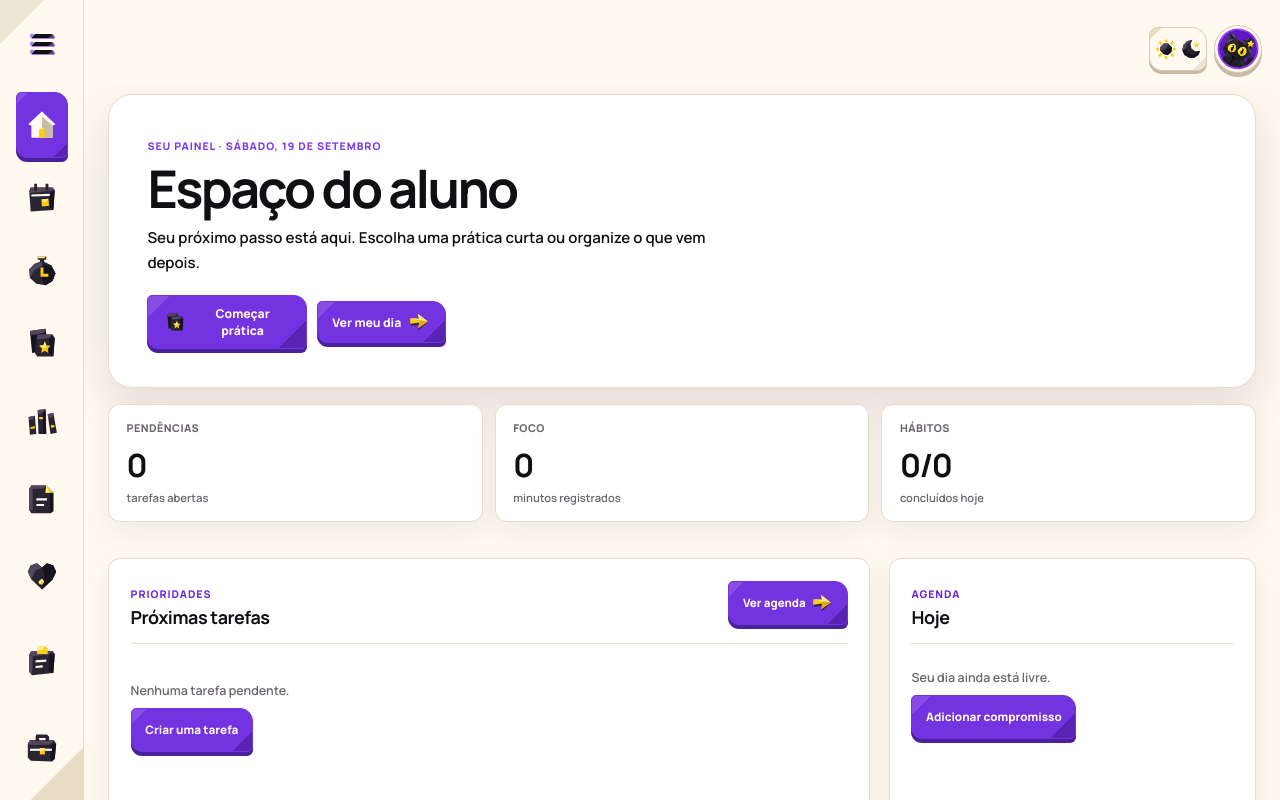
Test case: App › mostra a rosa que cresce com o temporizador de foco
What coordinates should you click on to do the following:
click the button named "Foco"
I would click on:
 (42, 271)
Its box is x1=16 y1=238 x2=68 y2=304.
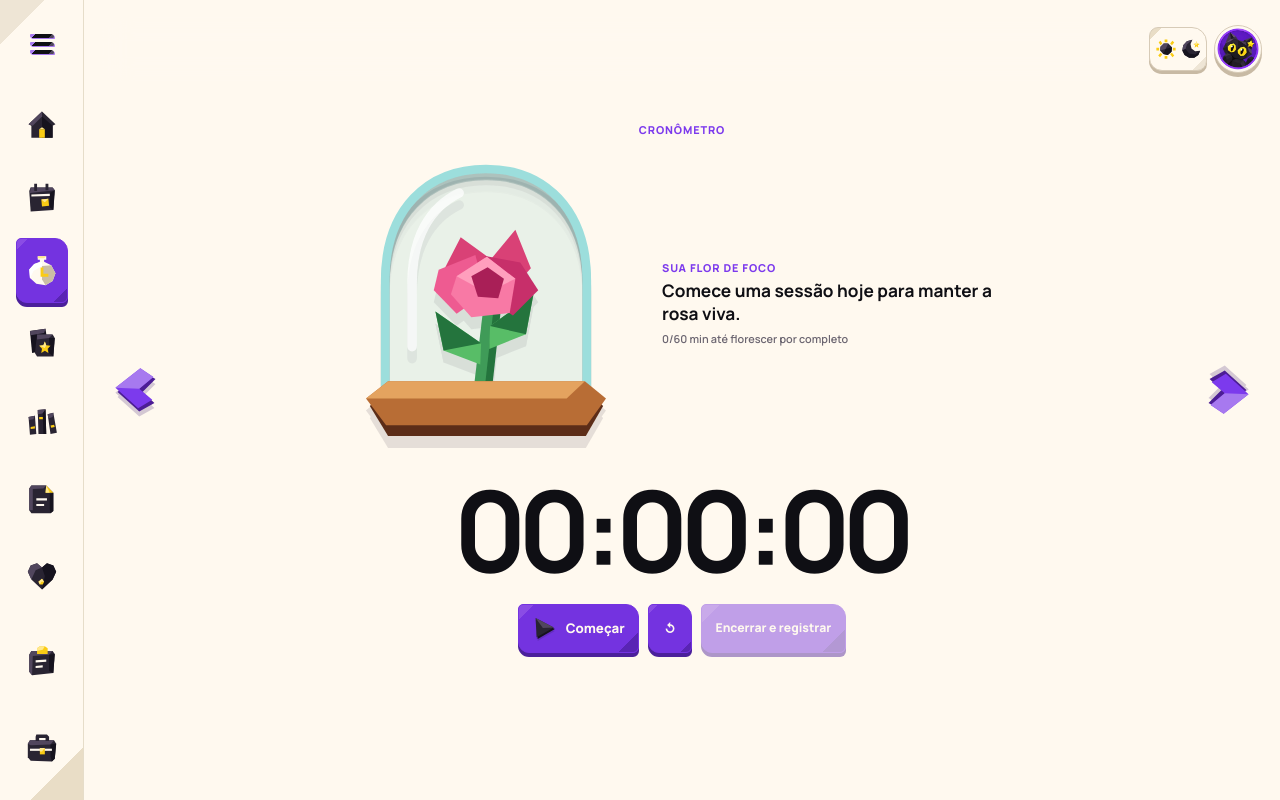
Expected: the picture named "rosa de foco crescendo" is shown, x1=342 y1=145 x2=630 y2=461
Expected: the text "Comece uma sessão hoje para manter a rosa viva." is shown, x1=662 y1=280 x2=1022 y2=325
Expected: the text "0/60 min até florescer por completo" is shown, x1=662 y1=331 x2=848 y2=346
What coordinates should you click on to do the following:
click the button named "Próximo modo"
I would click on:
 (1228, 391)
Its box is x1=1200 y1=363 x2=1256 y2=419.
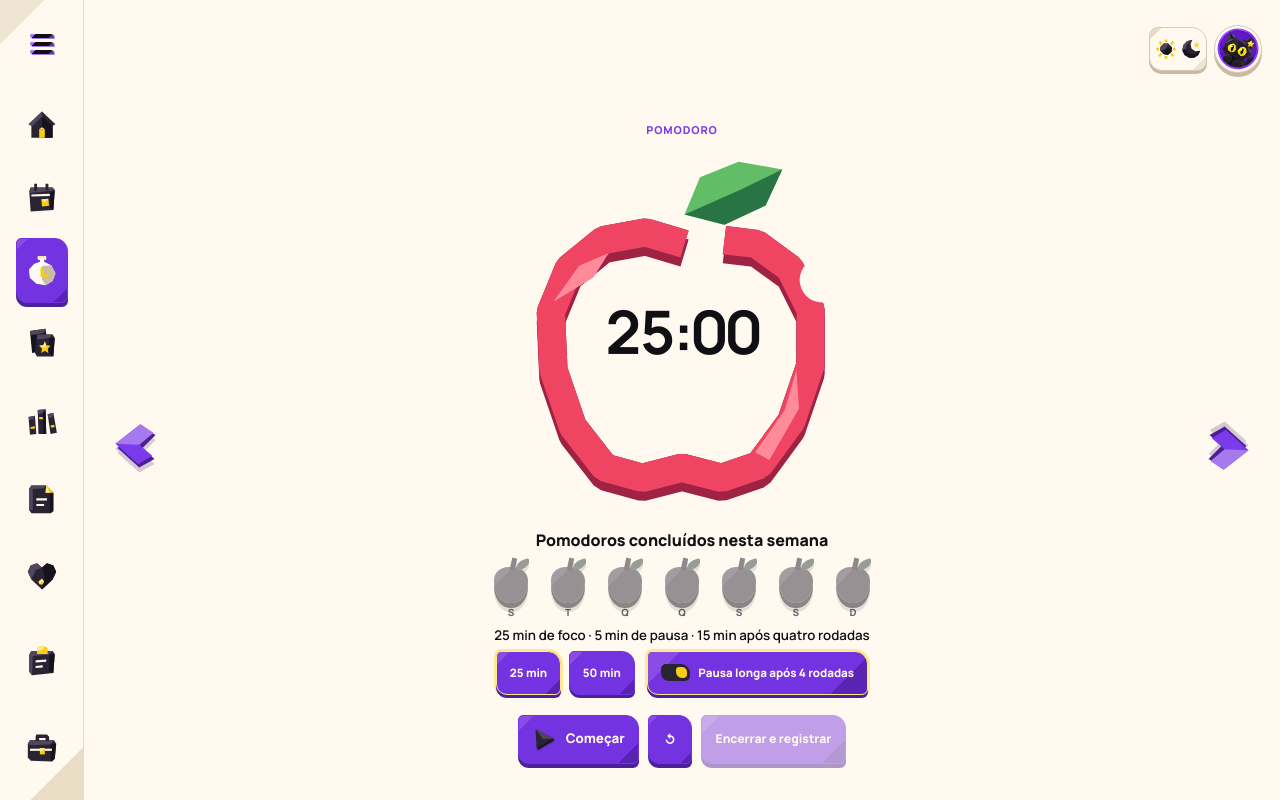
Expected: the text "Pomodoro" is shown, x1=646 y1=122 x2=718 y2=137
Expected: the picture named "maçã pomodoro em papel recortado" is shown, x1=502 y1=145 x2=862 y2=517
Expected: the number of icons with class "streak-apple" is 7
What coordinates should you click on to do the following:
click the button "50 min"
I would click on:
 (602, 673)
Its box is x1=569 y1=651 x2=635 y2=695.
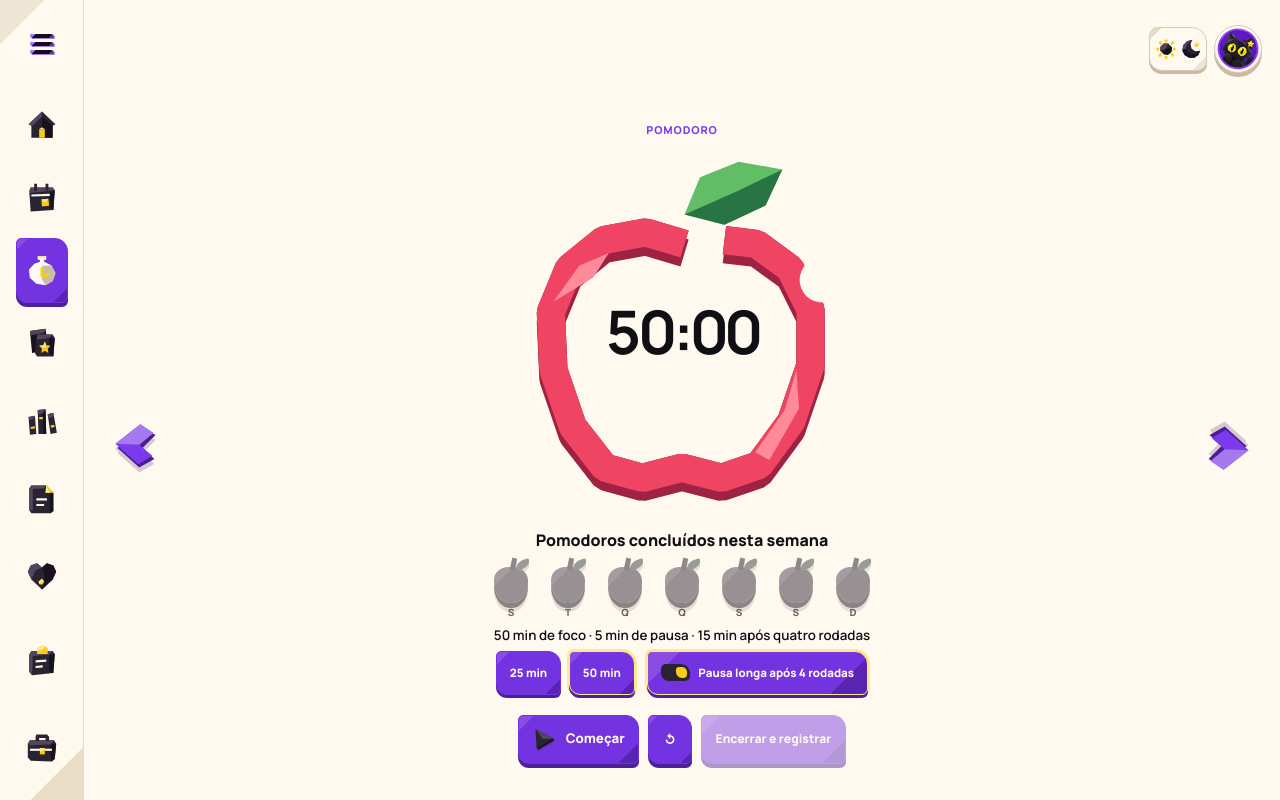
Expected: the heading "50:00" is shown, x1=605 y1=290 x2=759 y2=372
What coordinates should you click on to do the following:
click the button "Pausa longa após 4 rodadas"
I would click on:
 (757, 673)
Its box is x1=647 y1=651 x2=868 y2=695.
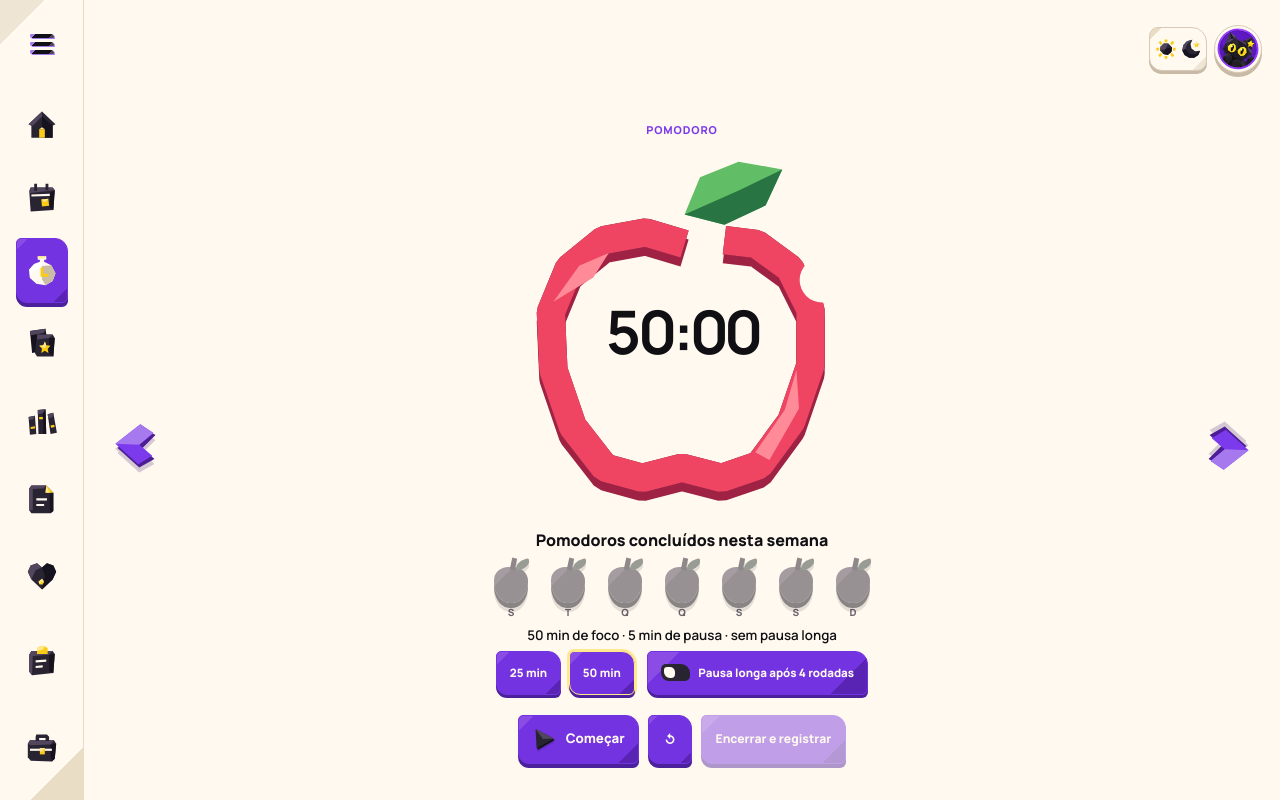
Expected: the button "Pausa longa após 4 rodadas" is not pressed, x1=647 y1=651 x2=868 y2=695
What coordinates should you click on to do the following:
click the button "Começar"
I would click on:
 (579, 739)
Its box is x1=518 y1=715 x2=639 y2=764.
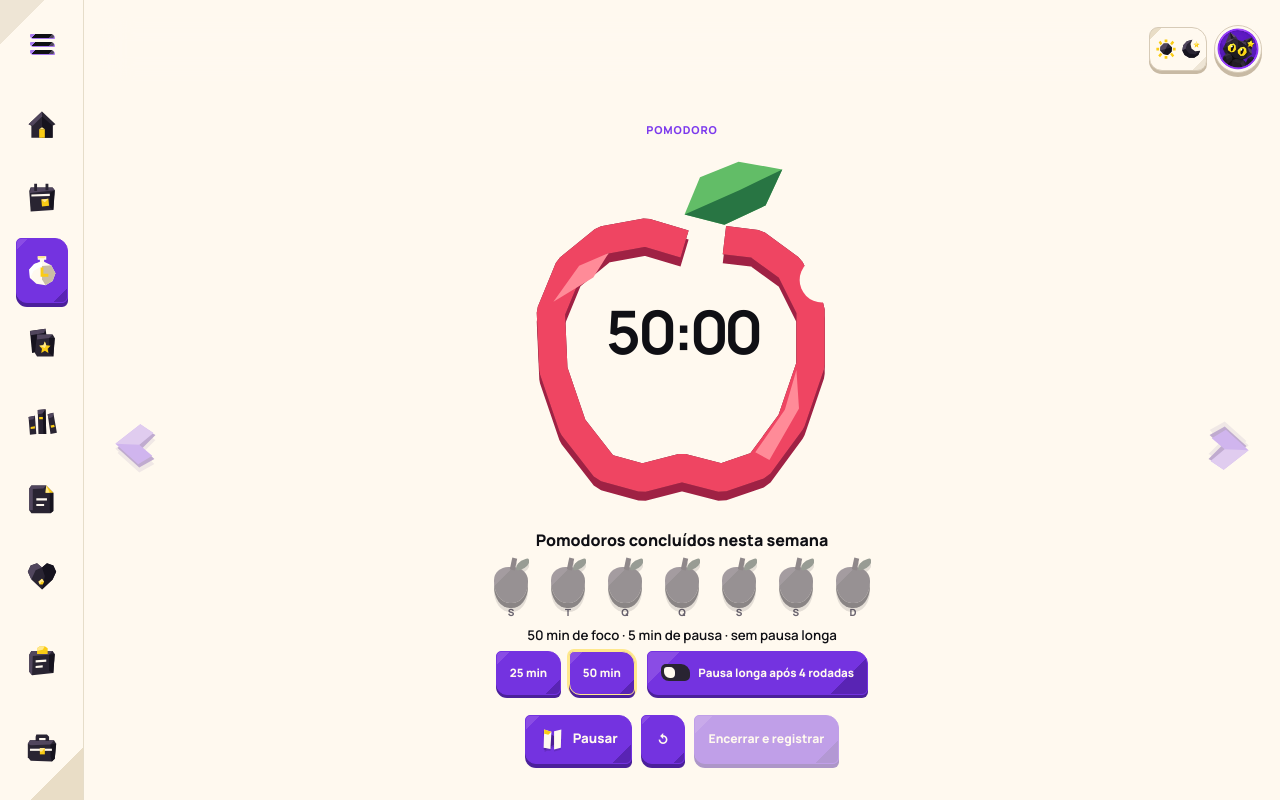
Expected: the button "Pausar" is shown, x1=525 y1=715 x2=632 y2=764
